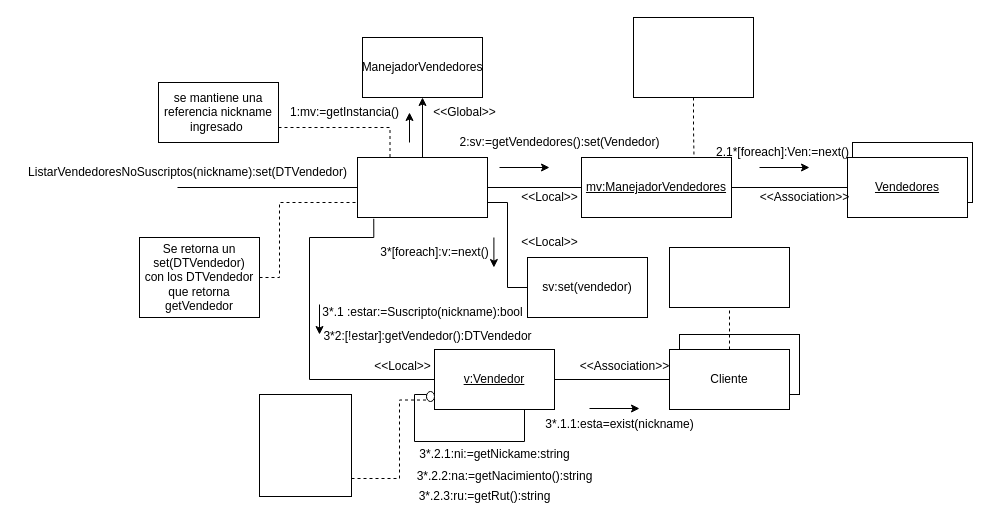
This 990x529 diagram has some shape labels left out. The centre of each missing label's shape, as x and y in pixels:
Colección de los clientes suscriptos al vendedor: the point at 729,277
ControladorNotificacion: the point at 422,187
Retorna un set(vendedor) compuesto por los vendedores que devuelve ¨Ven¨: the point at 693,57
Se crea un DTVendedor con nickname(ni), nacimiento(na) y rut(ru): the point at 305,445
